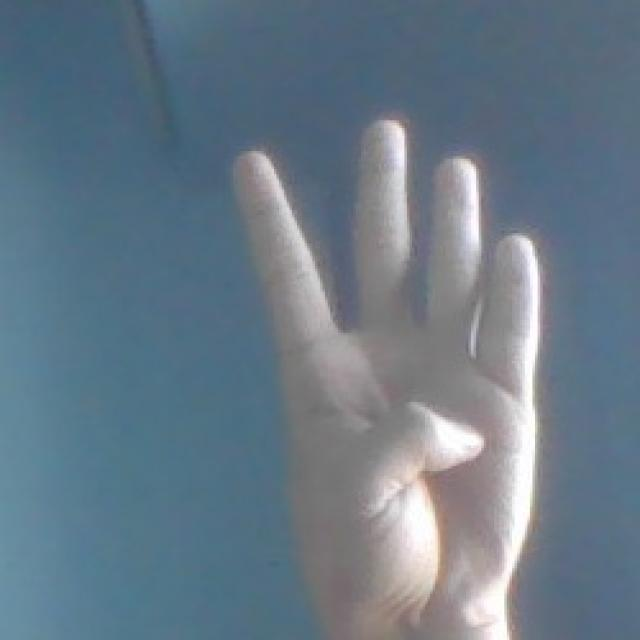Numeric-4: (229, 115, 545, 630)
